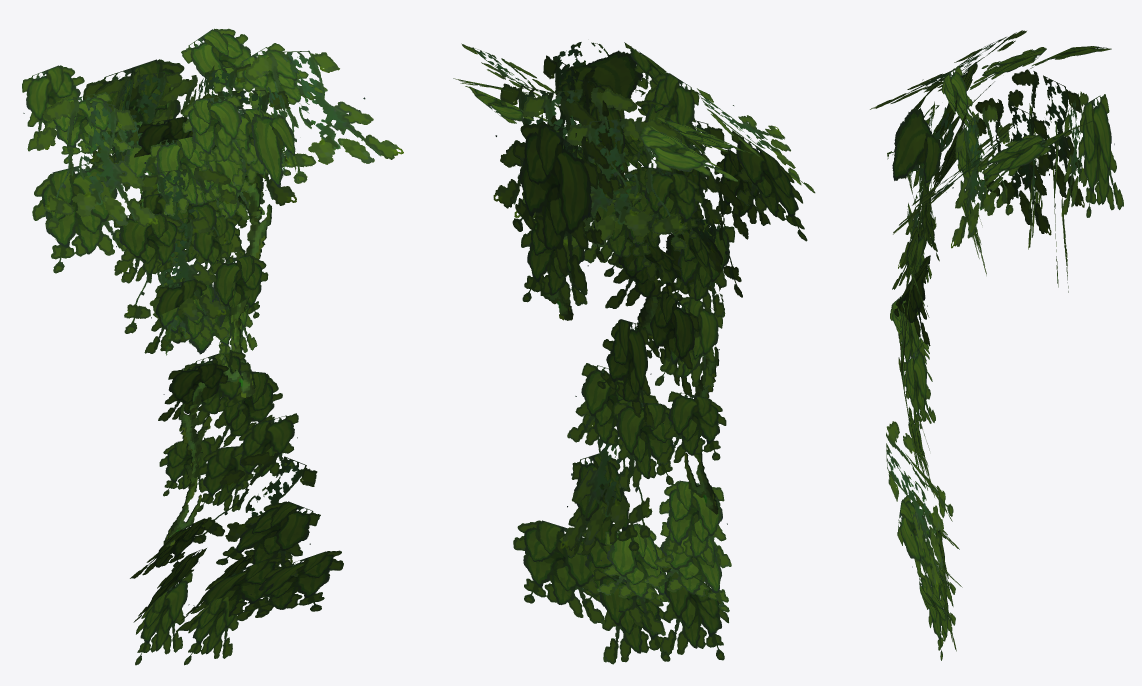
Rendered from ivyclump5.fbx.
The picture shows the model from 3 angles, left to right: view 1: azimuth 30°, elevation 25°; view 2: azimuth 150°, elevation 25°; view 3: azimuth 270°, elevation 25°; orthographic projection. The views are drawn at different scales.
Parts seen in each view (by area): view 1: ivywall5; view 2: ivywall5; view 3: ivywall5.
Boxes of the visible parts, x1,y1,x2,y2 form: ivywall5: (22,28,403,665); ivywall5: (453,42,815,664); ivywall5: (870,30,1123,660).
Size of the model in its own units: 248 by 404 by 167.
